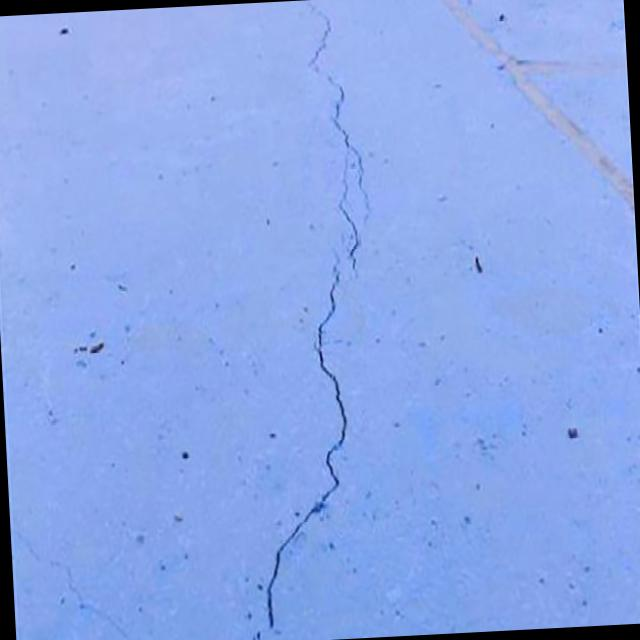crack: (224, 0, 391, 640)
